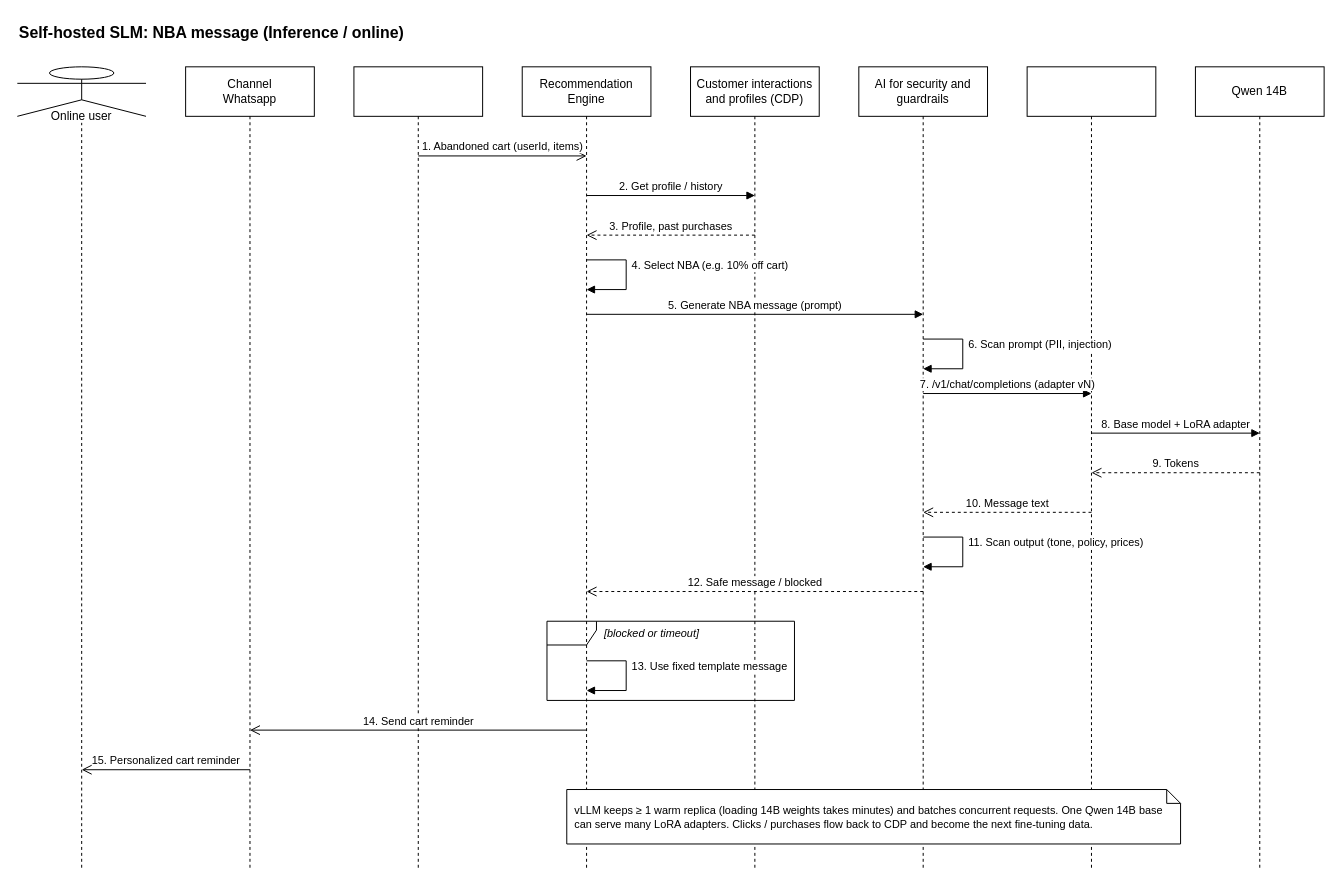
Some shapes in this 1341 by 886 pixel diagram are drawn without their labels. Each missing label, with the box of its shape:
alt: (546, 620, 794, 700)
Flink: (353, 66, 483, 869)
vLLM: (1026, 66, 1156, 869)
